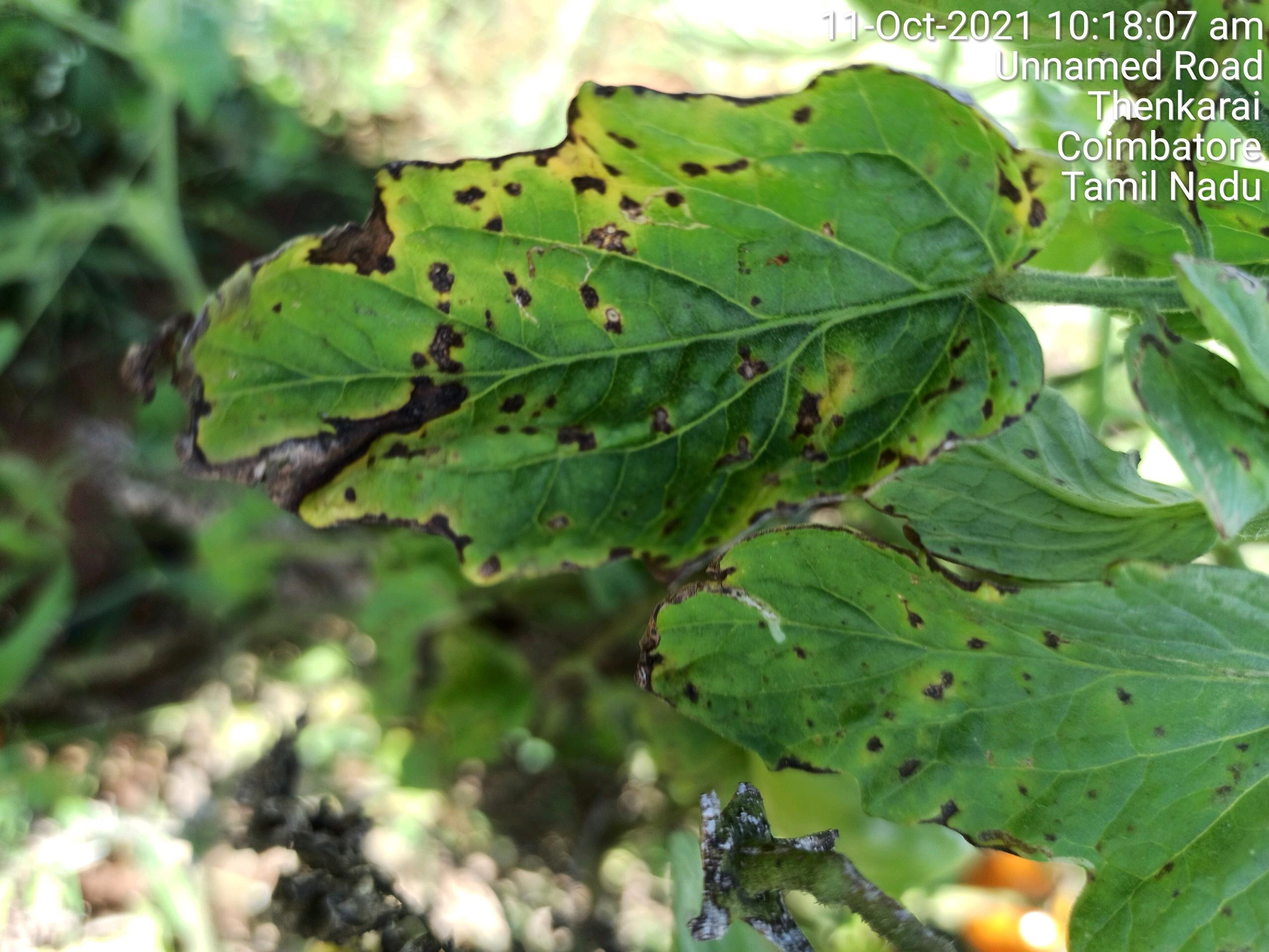Early Blight: (218, 361, 1149, 868), (0, 0, 633, 439)
